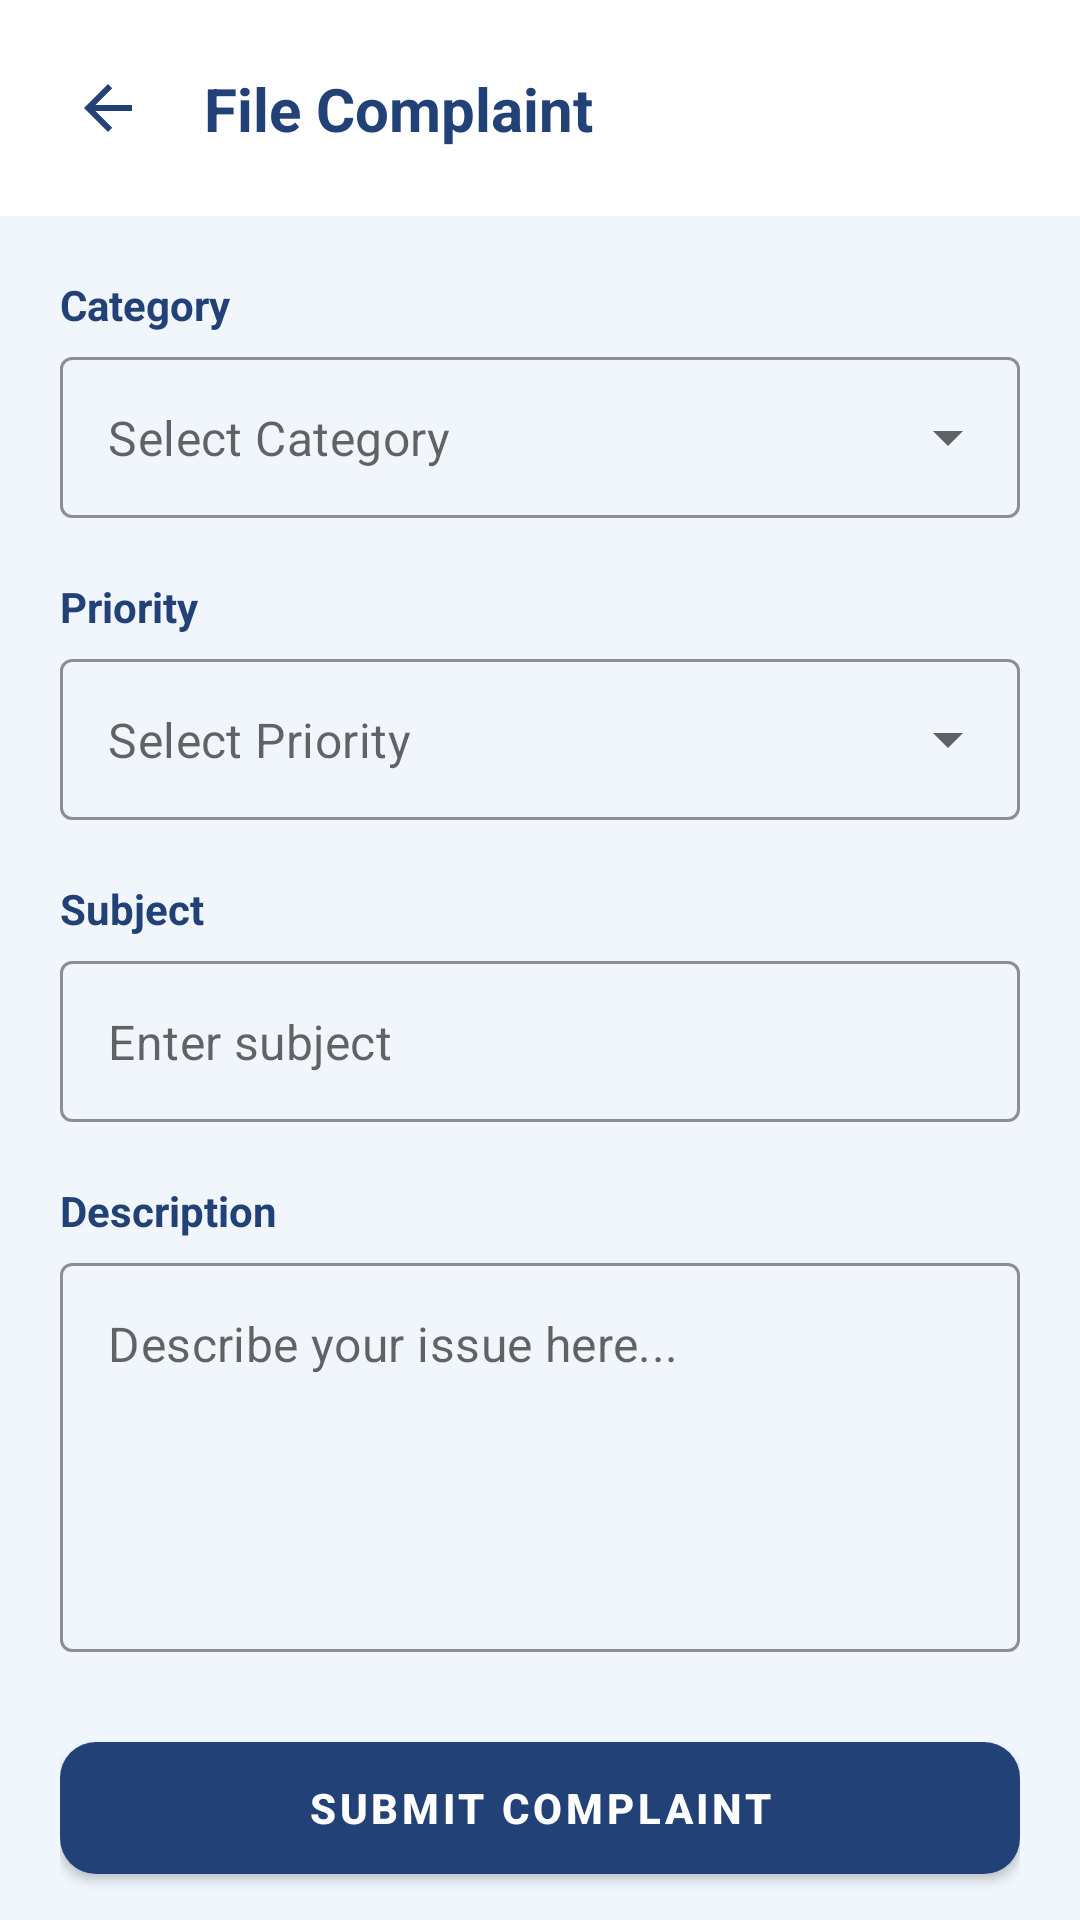

Point at icon controls on the screen. Image size 1080w x 1920h, points as point (x, y).
arrow back: point (108, 108)
